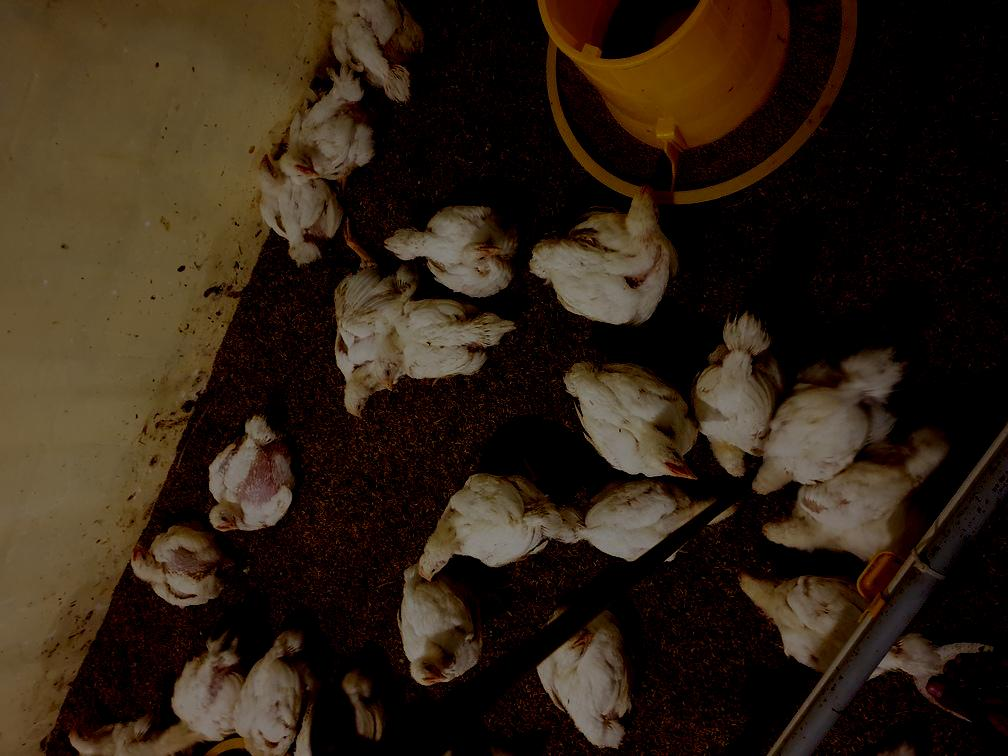Pollos: (744, 342, 911, 499), (539, 183, 677, 320), (332, 296, 510, 399), (411, 467, 588, 569), (555, 364, 701, 483), (394, 203, 527, 289), (202, 415, 300, 529), (328, 1, 427, 94), (286, 82, 376, 178), (405, 582, 480, 687), (127, 526, 232, 600)
